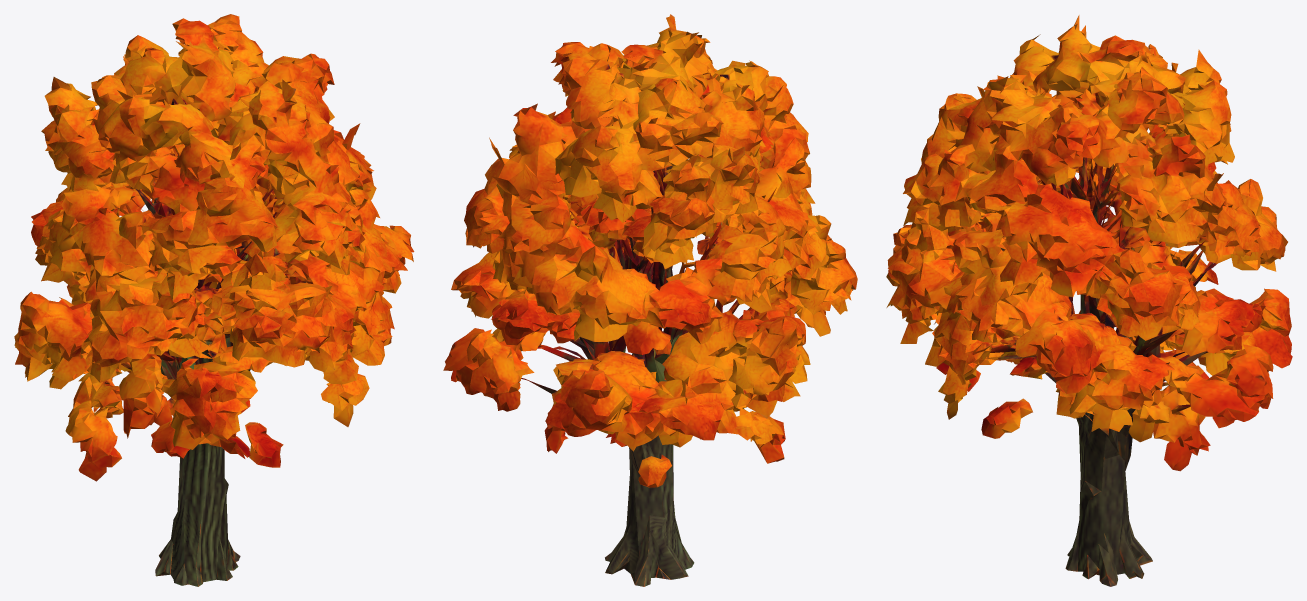
The picture shows the model from 3 angles, left to right: view 1: azimuth 30°, elevation 25°; view 2: azimuth 150°, elevation 25°; view 3: azimuth 270°, elevation 25°; orthographic projection. The views are drawn at different scales.
Size of the model in its own units: 1.25 by 1.87 by 1.29.
1 material, 1 textured.
